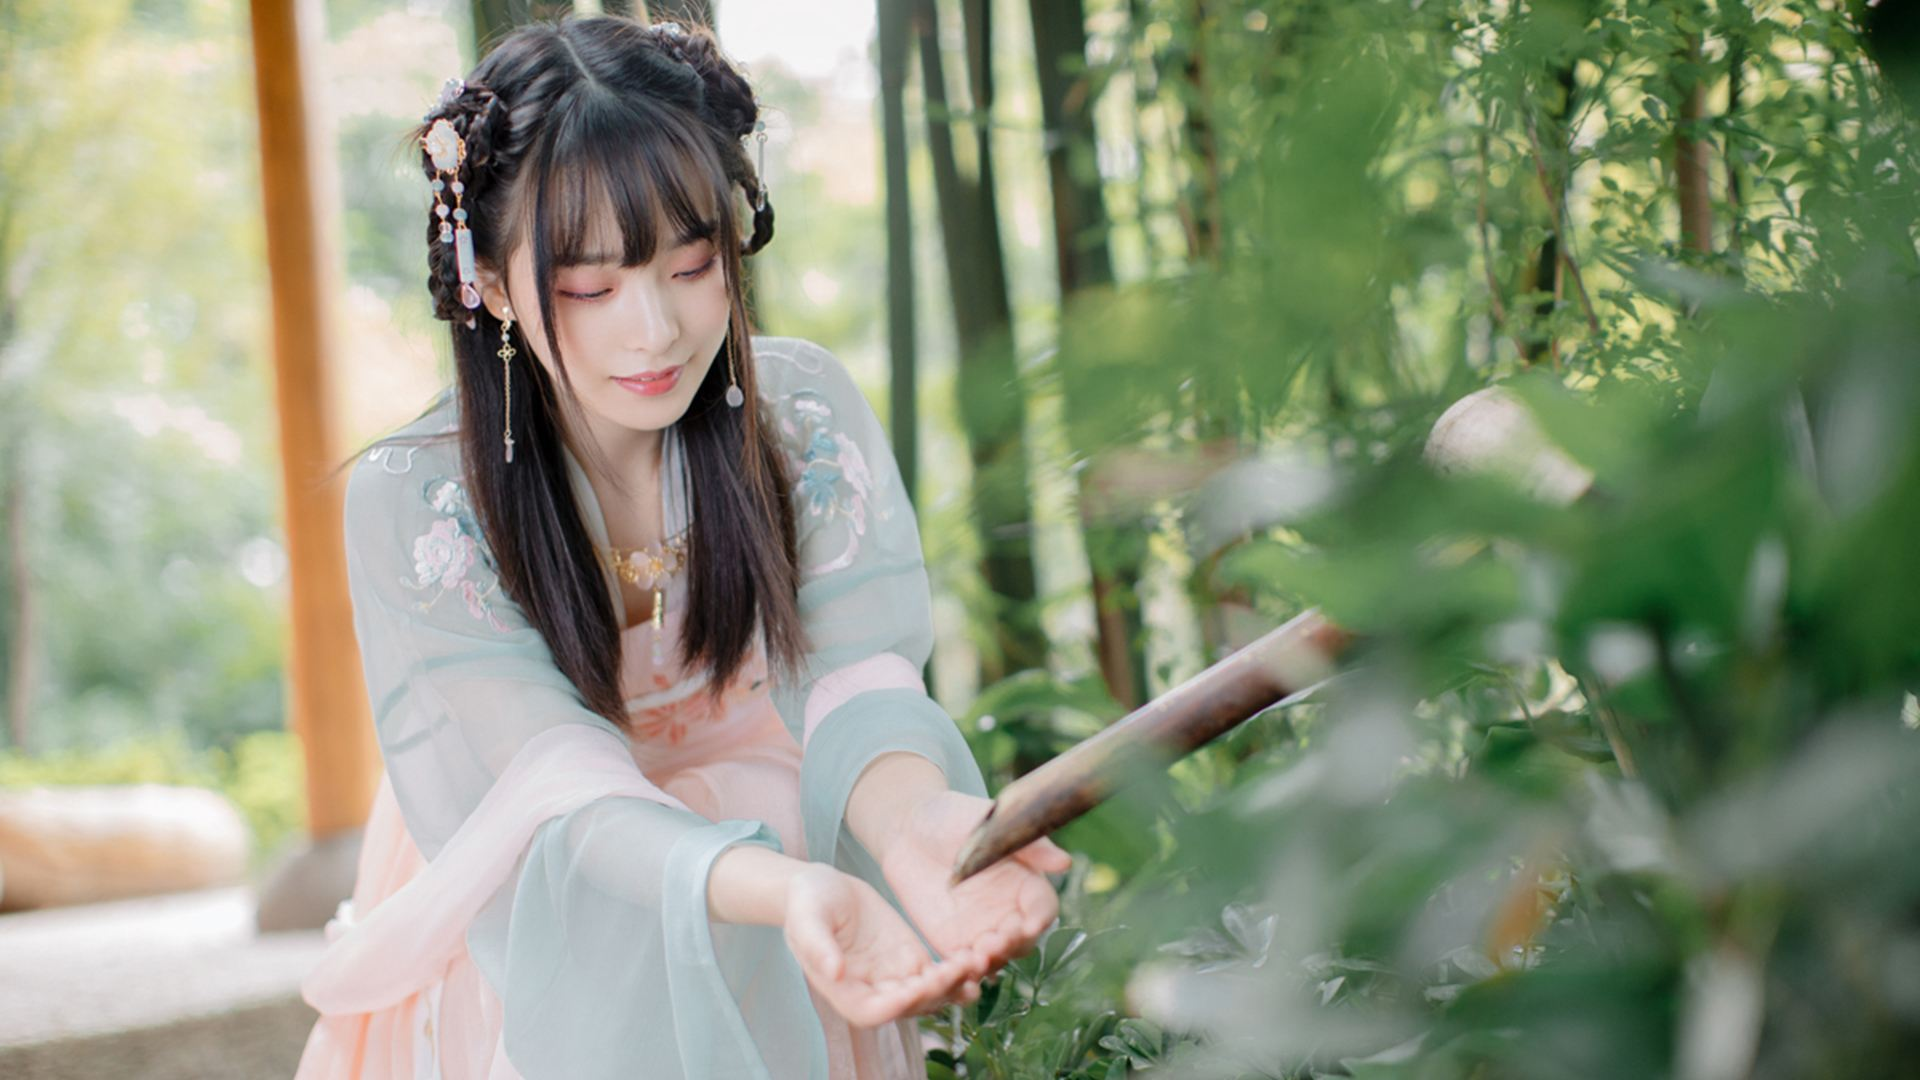person: (388, 39, 1076, 985)
